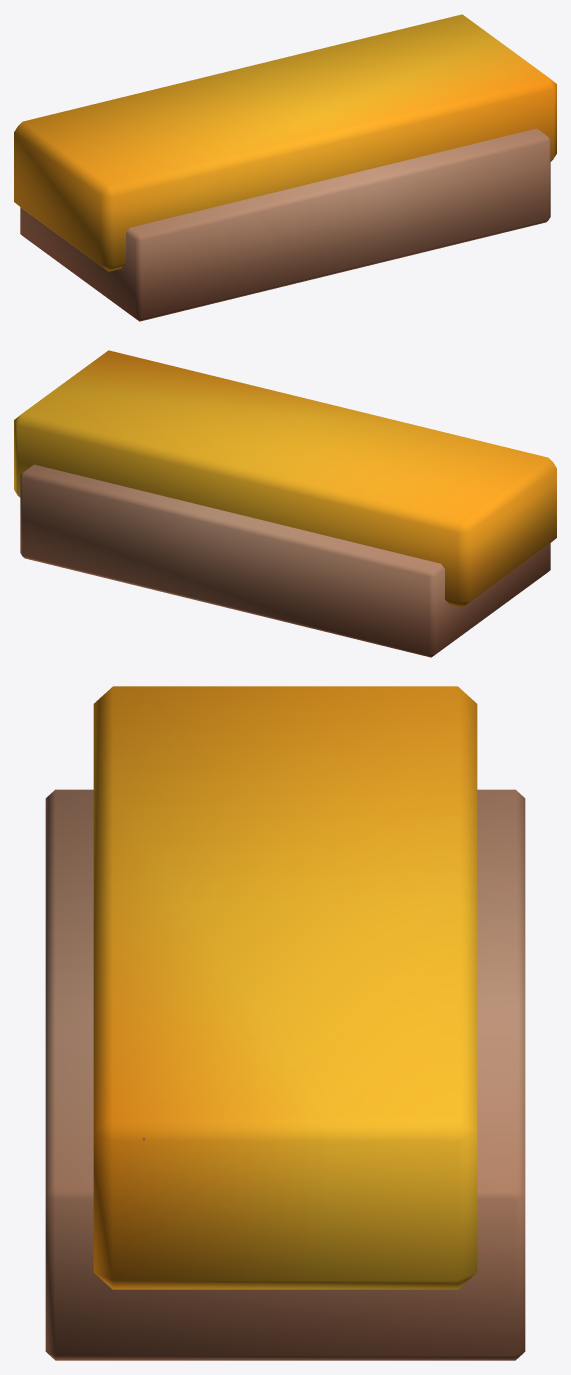
Rendered from ChalkEraser.fbx.
3 views of the same model, one above another, from view 1: azimuth 30°, elevation 25°; view 2: azimuth 150°, elevation 25°; view 3: azimuth 270°, elevation 25° (orthographic). The views are drawn at different scales.
Visible parts, largest first — view 1: ChalkEraser; view 2: ChalkEraser; view 3: ChalkEraser.
Boxes of the visible parts, x1=… form: ChalkEraser: x1=14, y1=14, x2=556, y2=321; ChalkEraser: x1=14, y1=350, x2=556, y2=657; ChalkEraser: x1=45, y1=686, x2=525, y2=1360.
Bounding box in the file's own units: 110 × 30 × 50.
